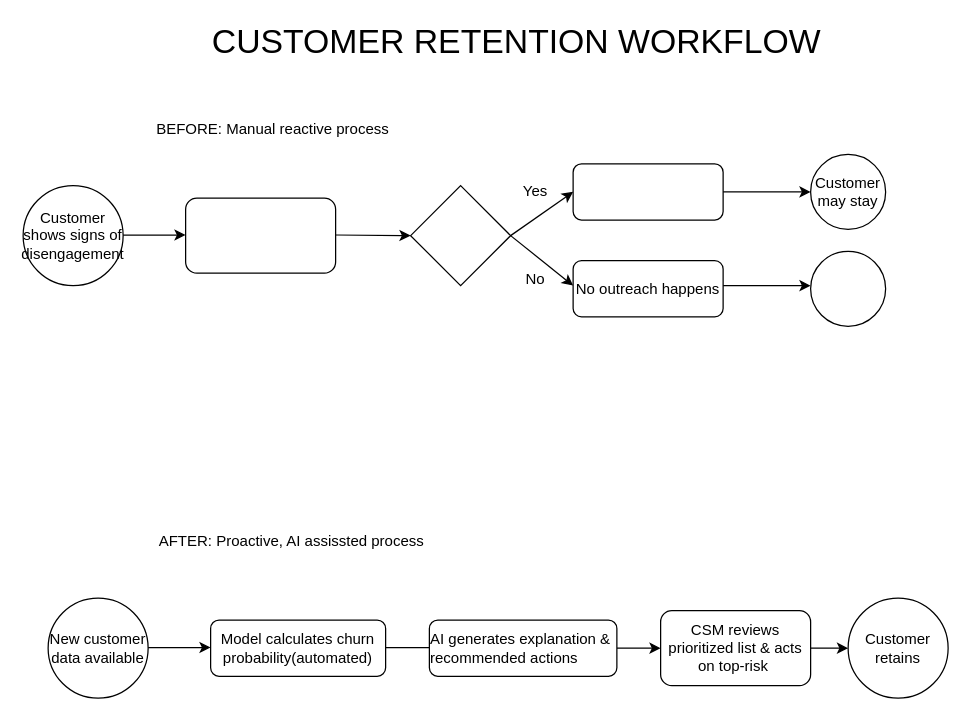
Image size: 970x720. Some labels were removed from this diagram. The centre of each missing label's shape, as x and y in pixels:
"CSM manually reviews account" belongs at point (260, 235).
"Customer churns" belongs at point (847, 288).
"Manual outreach attempt" belongs at point (647, 191).
"Noticed in time?" belongs at point (460, 235).
